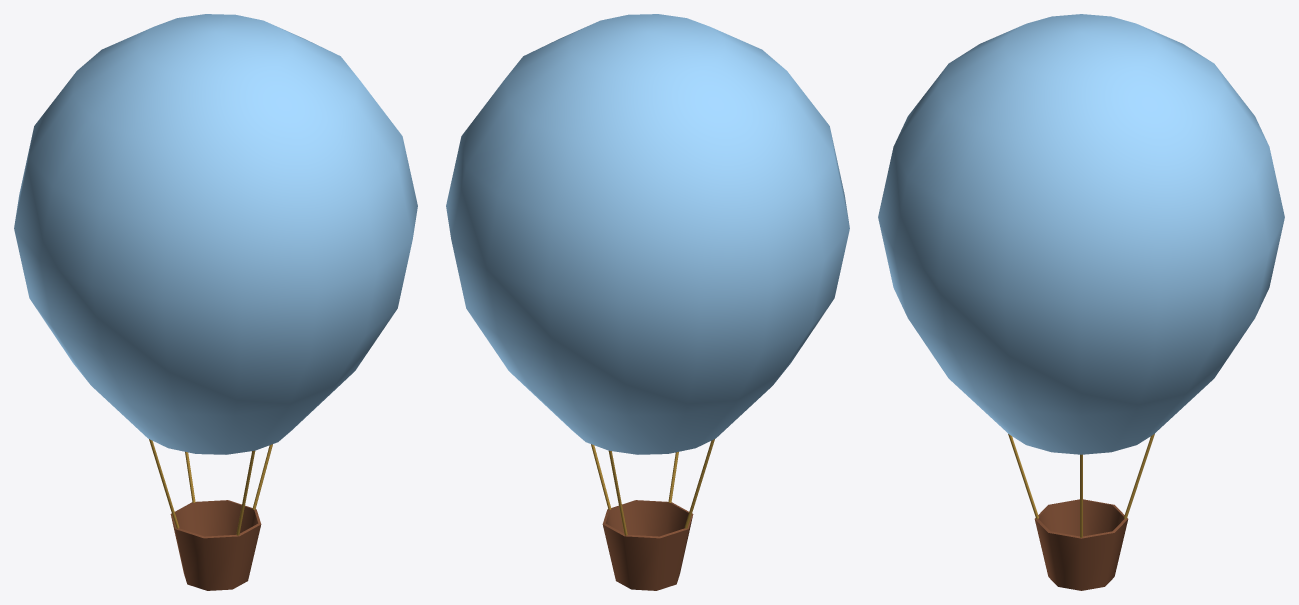
The model's file is Lv2_FB_Defender.FBX.
The picture shows the model from 3 angles, left to right: view 1: azimuth 30°, elevation 25°; view 2: azimuth 150°, elevation 25°; view 3: azimuth 270°, elevation 25°; orthographic projection.
Parts seen in each view (by area): view 1: Sphere001, Cylinder001, Line003; view 2: Sphere001, Cylinder001, Line003; view 3: Sphere001, Cylinder001, Line003.
Part boxes in pixels (x1,y1,x2,y2): Sphere001: [14, 14, 417, 454]; Cylinder001: [170, 500, 261, 590]; Line003: [149, 439, 272, 535]; Sphere001: [446, 14, 849, 454]; Cylinder001: [602, 500, 693, 590]; Line003: [591, 439, 714, 535]; Sphere001: [878, 14, 1284, 454]; Cylinder001: [1034, 499, 1128, 590]; Line003: [1008, 434, 1154, 537].
Bounding box in the file's own units: 130 × 192 × 130.
